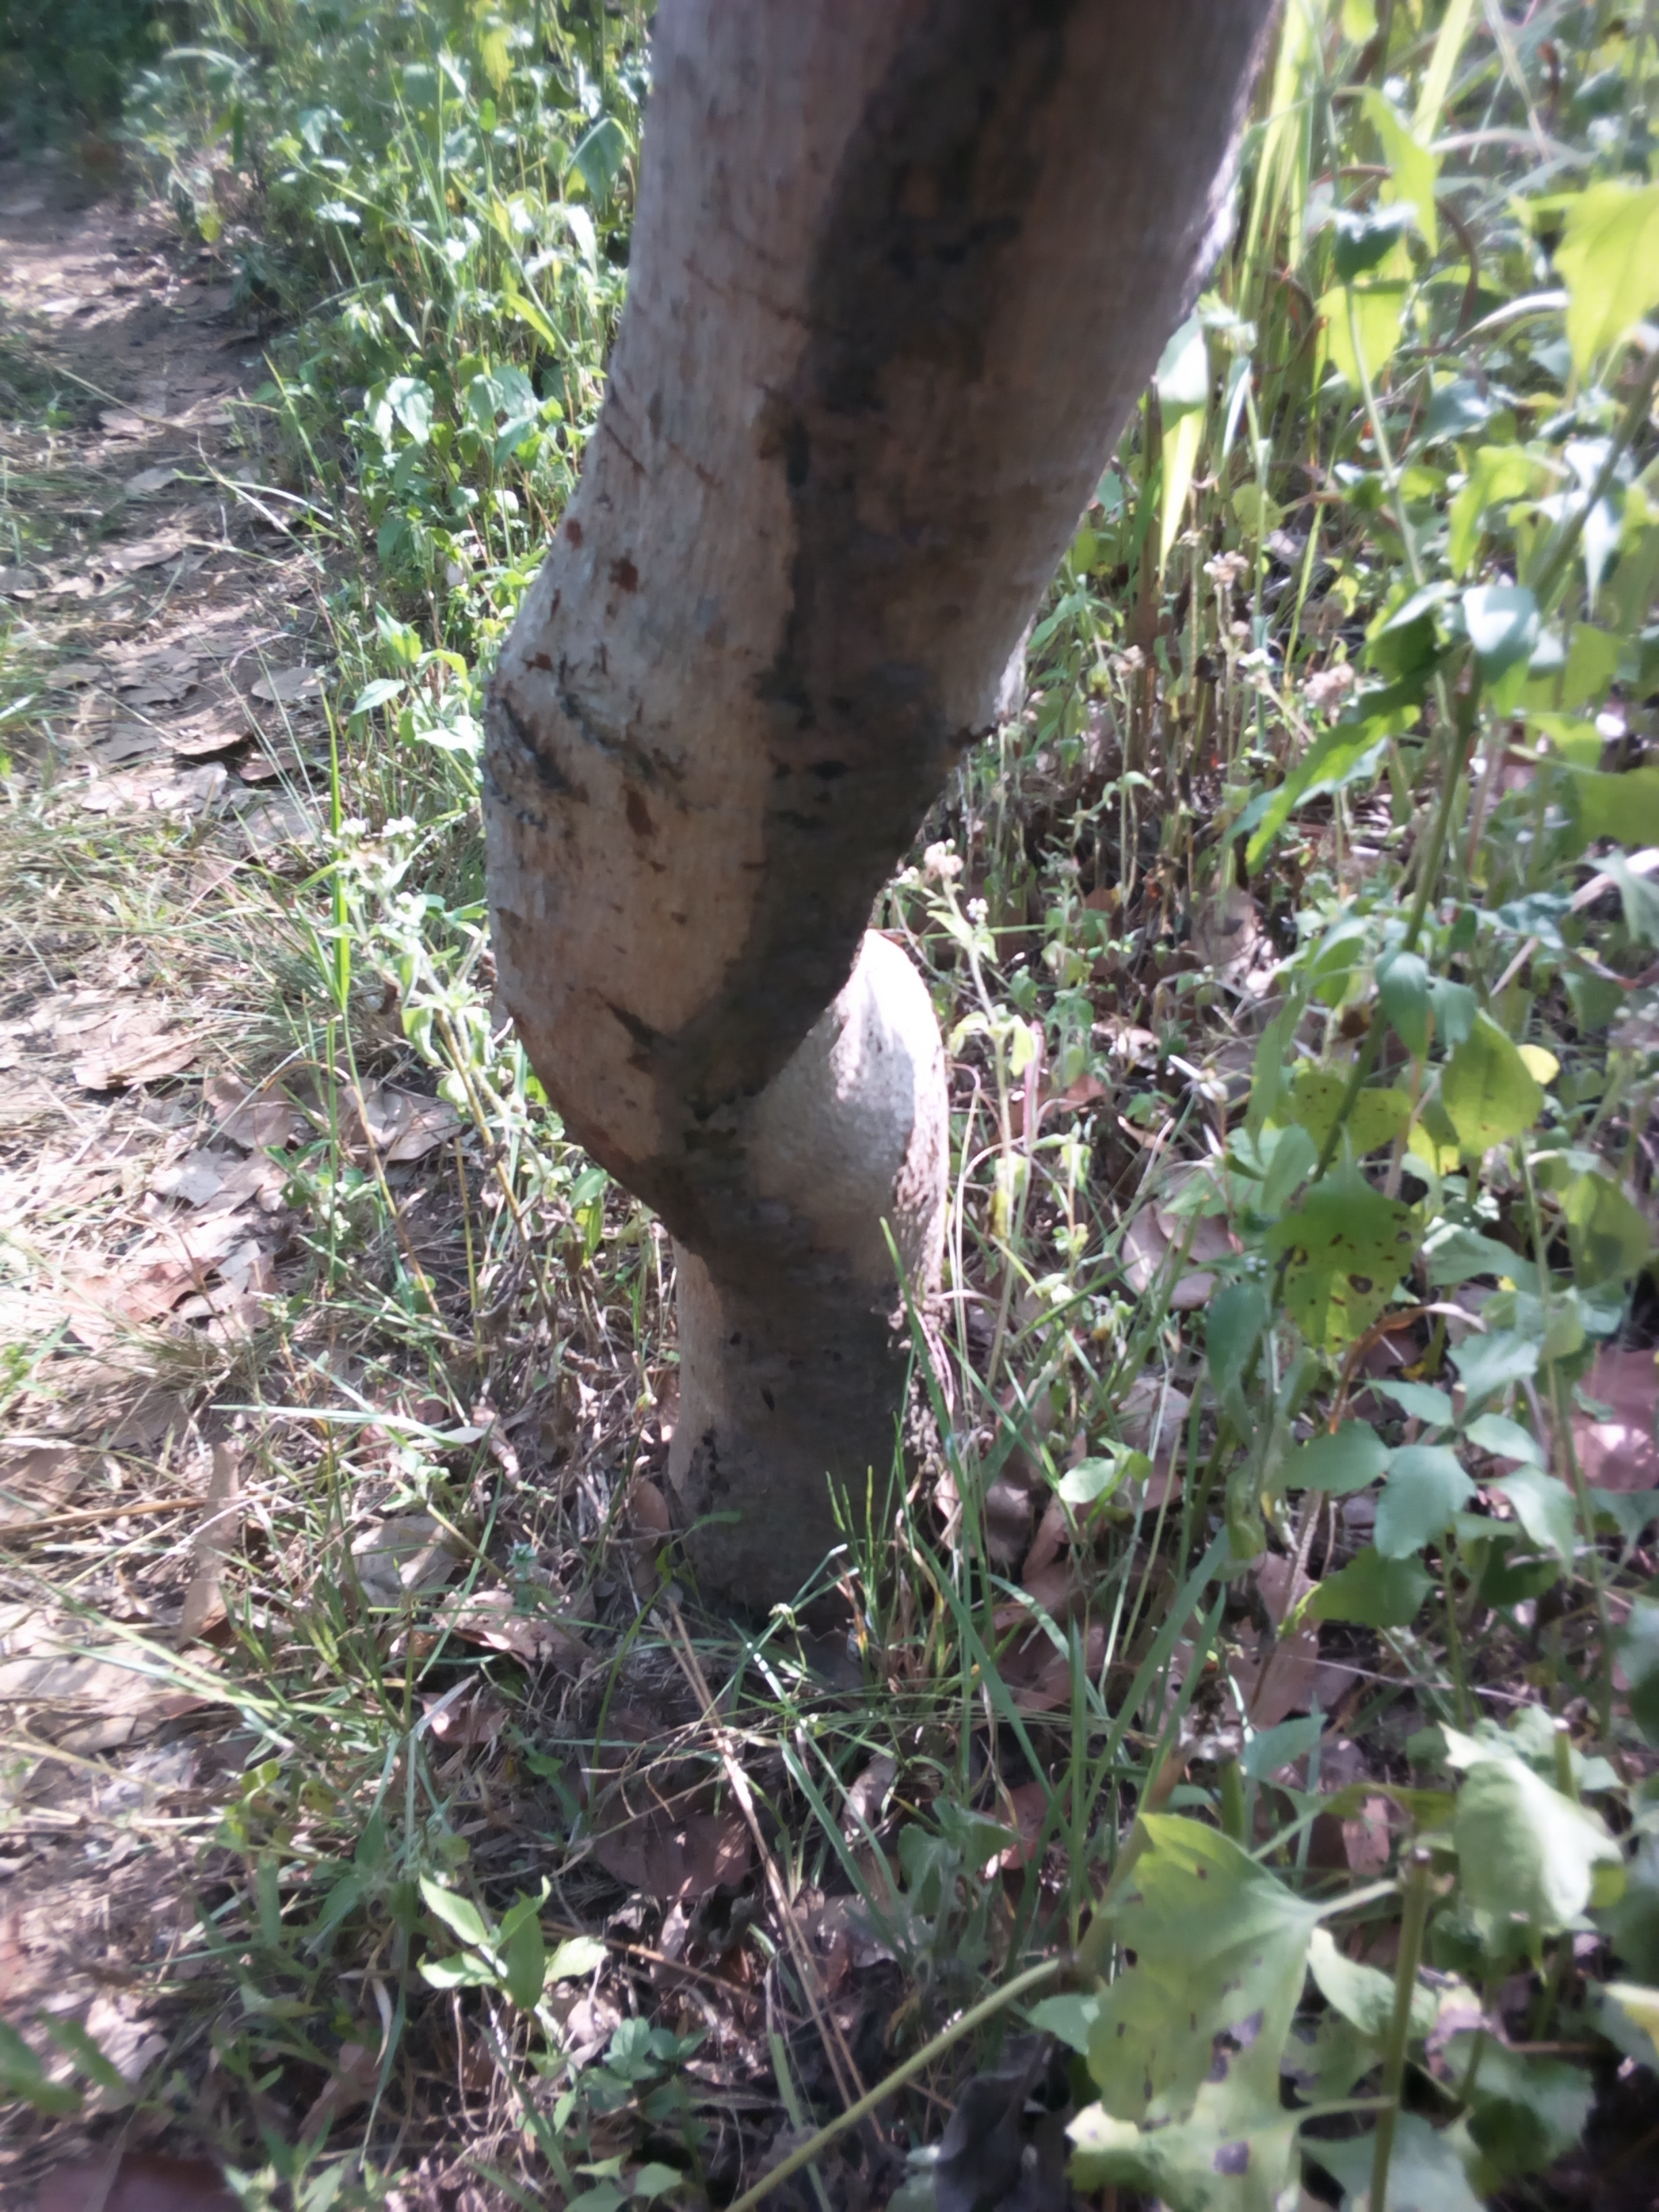Termites: (667, 117, 962, 1583)
